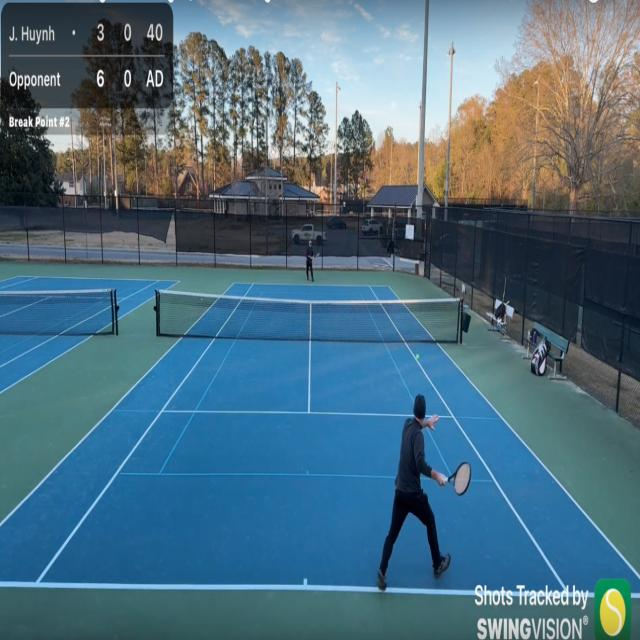ball: (416, 354, 420, 360)
